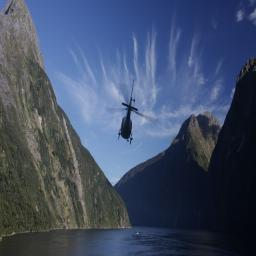helicopter: (109, 79, 156, 156)
